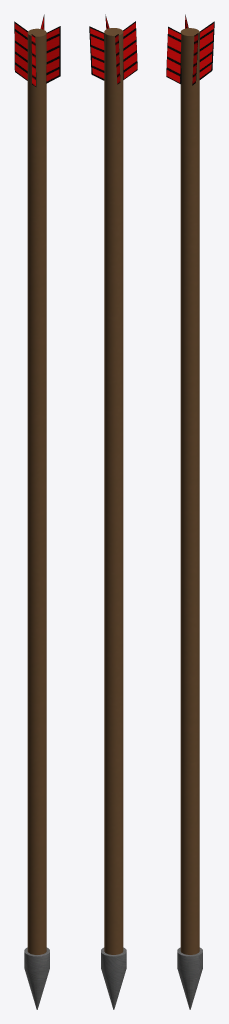
File: arrow.dae
3 views of the same model, side by side, from view 1: azimuth 30°, elevation 25°; view 2: azimuth 150°, elevation 25°; view 3: azimuth 330°, elevation 25° (orthographic).
Visible parts, largest first — view 1: Arrow_Arrow_0; view 2: Arrow_Arrow_0; view 3: Arrow_Arrow_0.
Part boxes in pixels (<box>): Arrow_Arrow_0: <box>14,14,60,1009</box>; Arrow_Arrow_0: <box>89,14,137,1009</box>; Arrow_Arrow_0: <box>166,14,214,1009</box>.
Bounding box in the file's own units: 0.0917 × 0.0966 × 2.84.
Materials: 1 (1 with a texture image).
